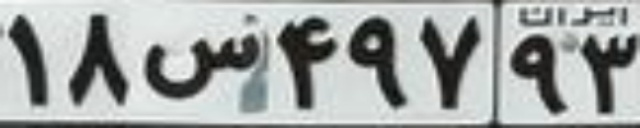1: (7, 14, 50, 105)
3: (579, 32, 635, 115)
4: (273, 15, 338, 110)
7: (416, 14, 481, 110)
8: (63, 11, 127, 104)
9: (347, 16, 409, 109), (503, 33, 567, 113)
sin: (142, 32, 259, 98)
